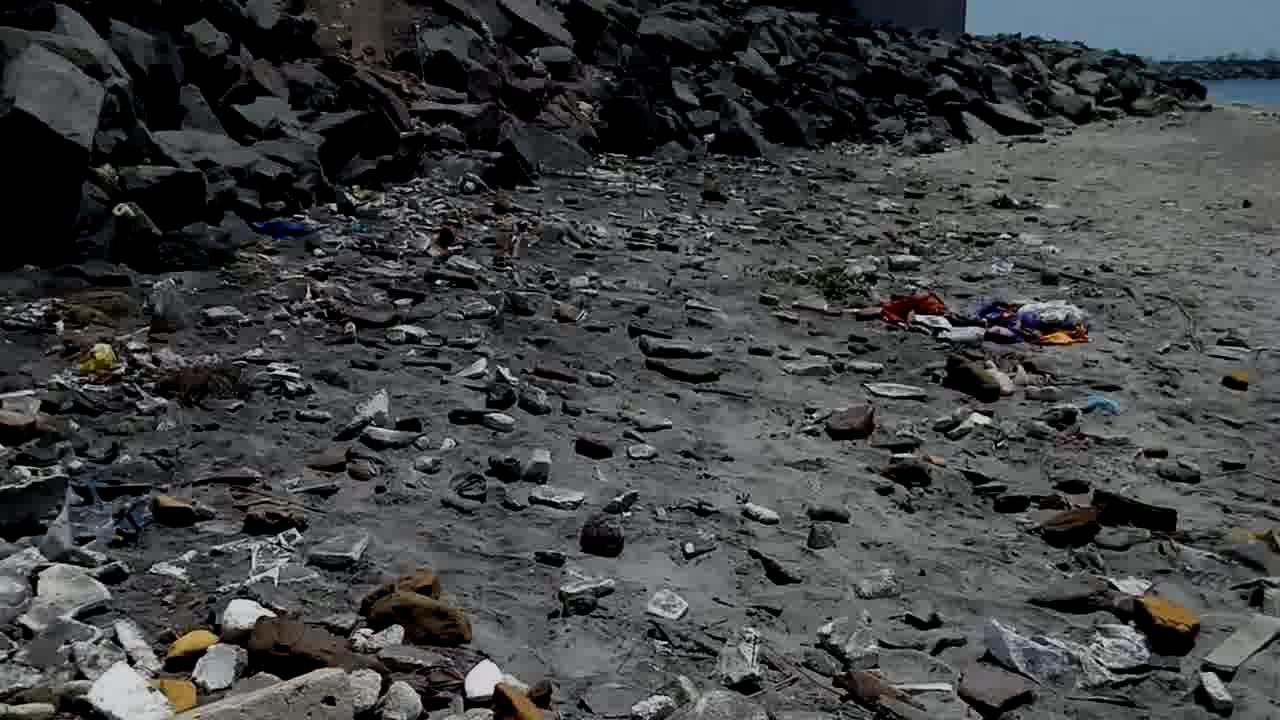obj: (1136, 595, 1203, 647), (580, 510, 624, 556)
sand/background: (1, 0, 1278, 286)
